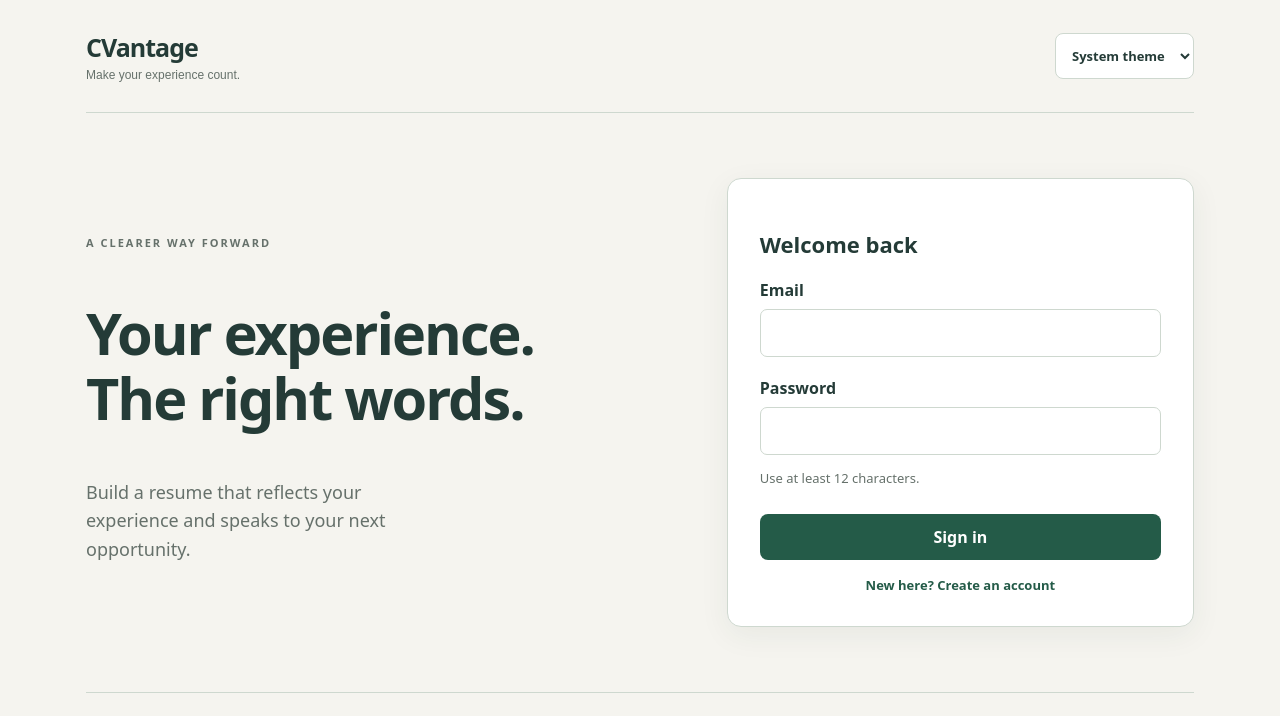
Test: signs in and loads the private resume workspace
The image size is (1280, 716).
In the field labelled "Email": (960, 333) [760,309,1161,357], type "test@example.test"
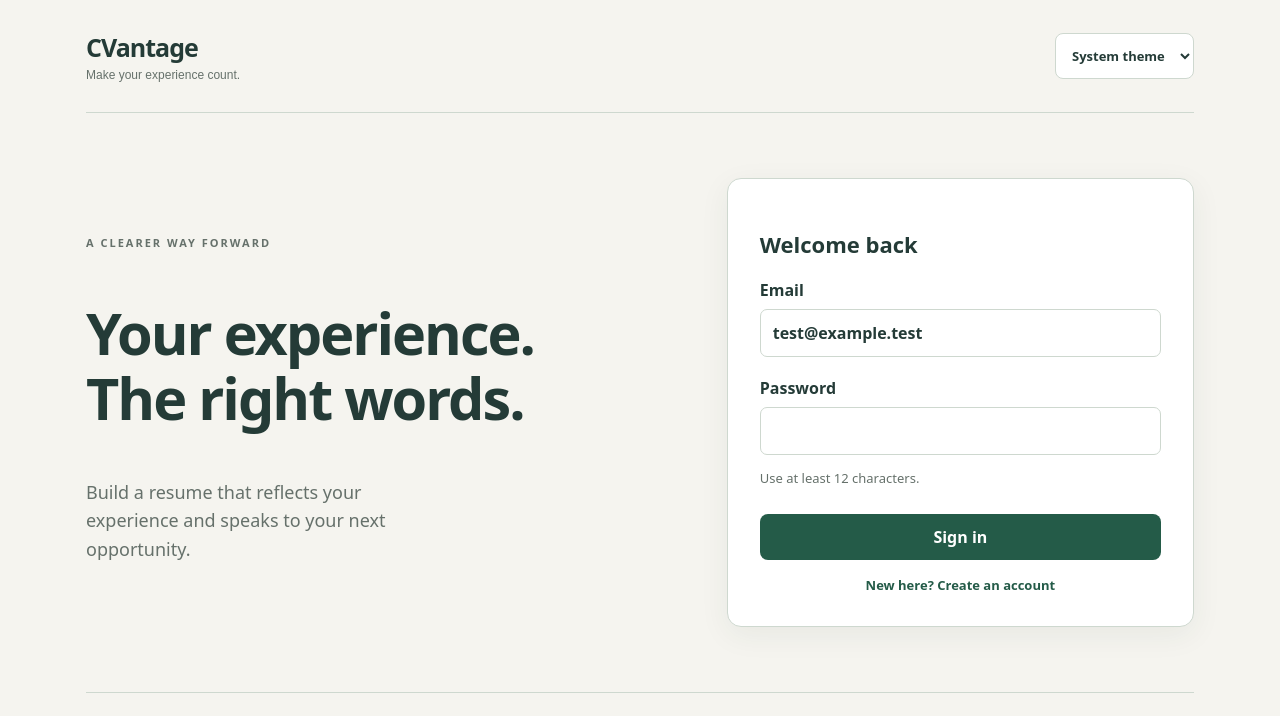
In the password field labelled "Password": (960, 431) [760,407,1161,455], type "synthetic-password-123"
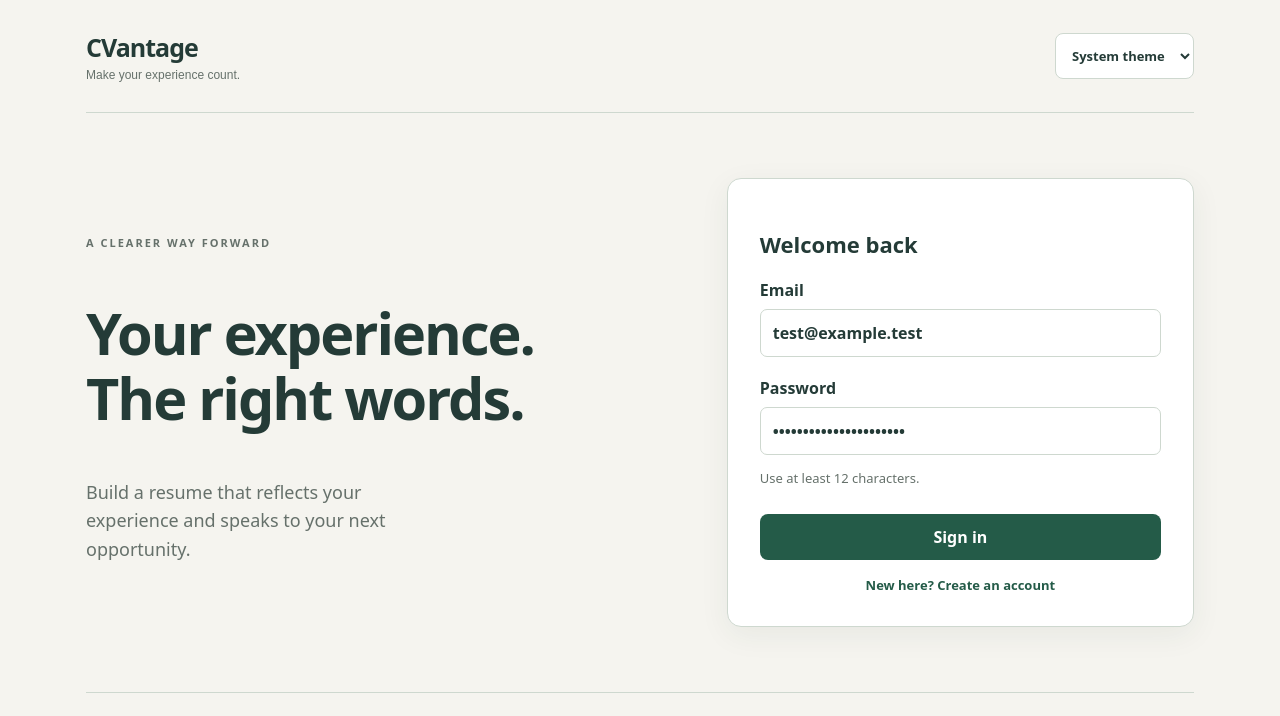
Click the button "Sign in": (960, 537) [760,514,1161,560]
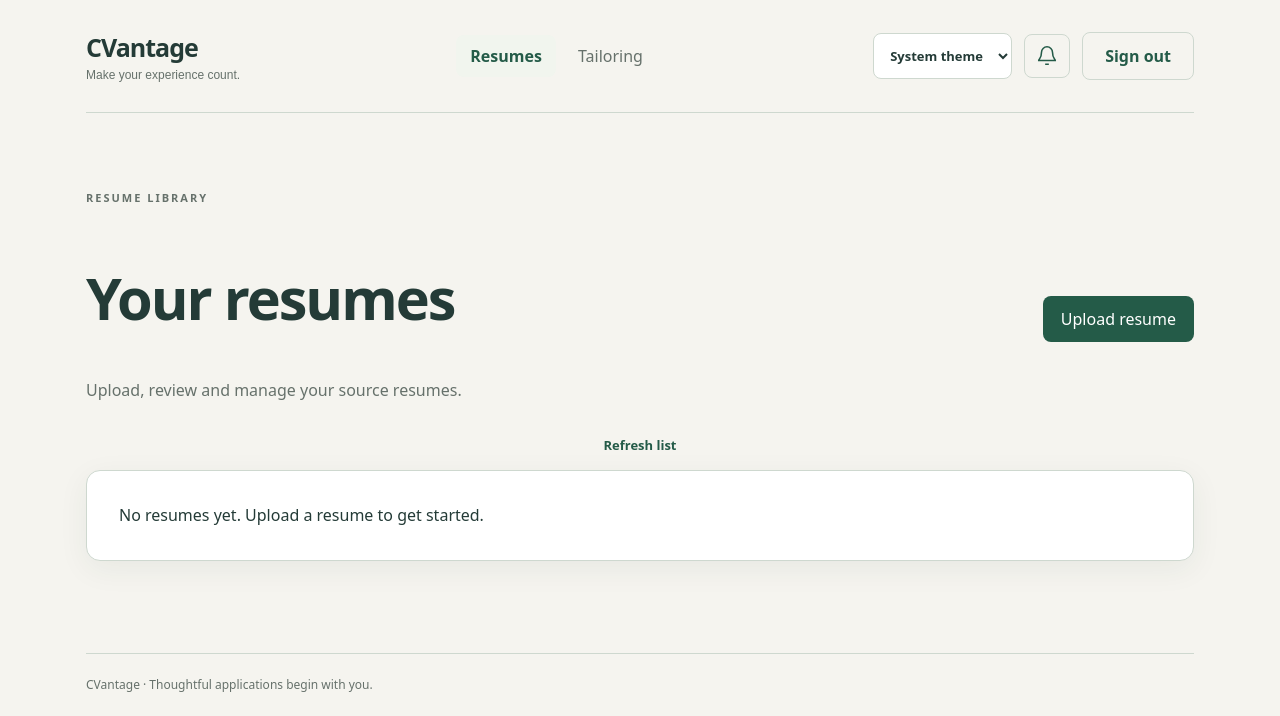
Check: the heading "Your resumes" is shown, box [86,265,462,330]
Check: the navigation bar named "Primary navigation" is shown, box [456,35,657,77]
